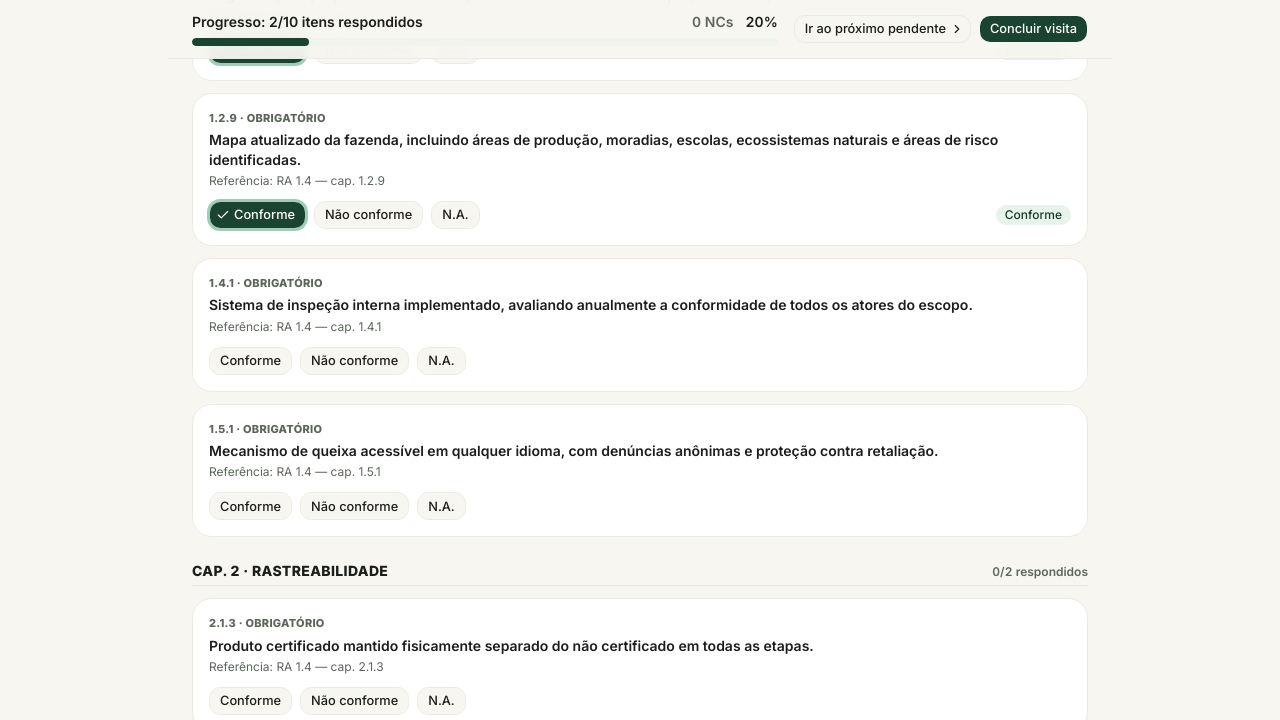
Test: ExecucaoVisita — confirmação e feedback de salvamento › mostra 'Salvo' quando a resposta é gravada
(page scrolled)
Click the button "Conforme" below "RA 1.4 — cap. 1.4.1".
click(251, 360)  # box [209,346,292,374]
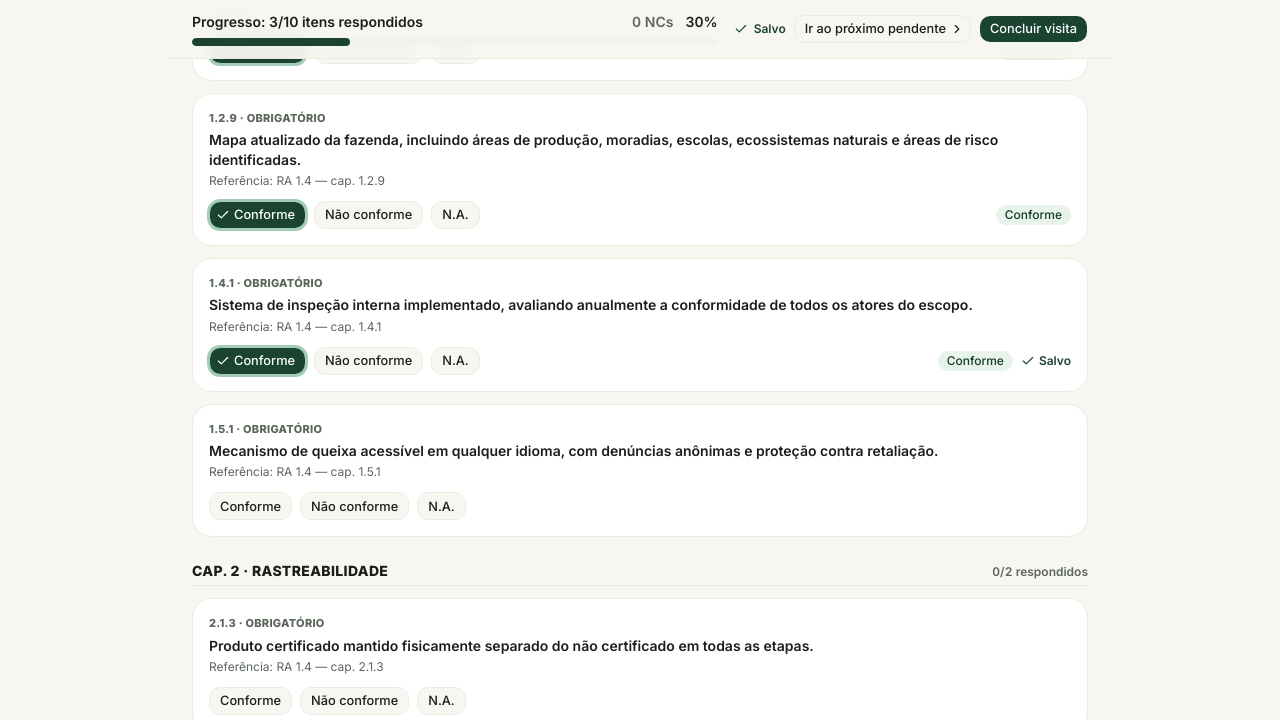
Now the text "Salvo" is shown, box [734,21,786,37]
